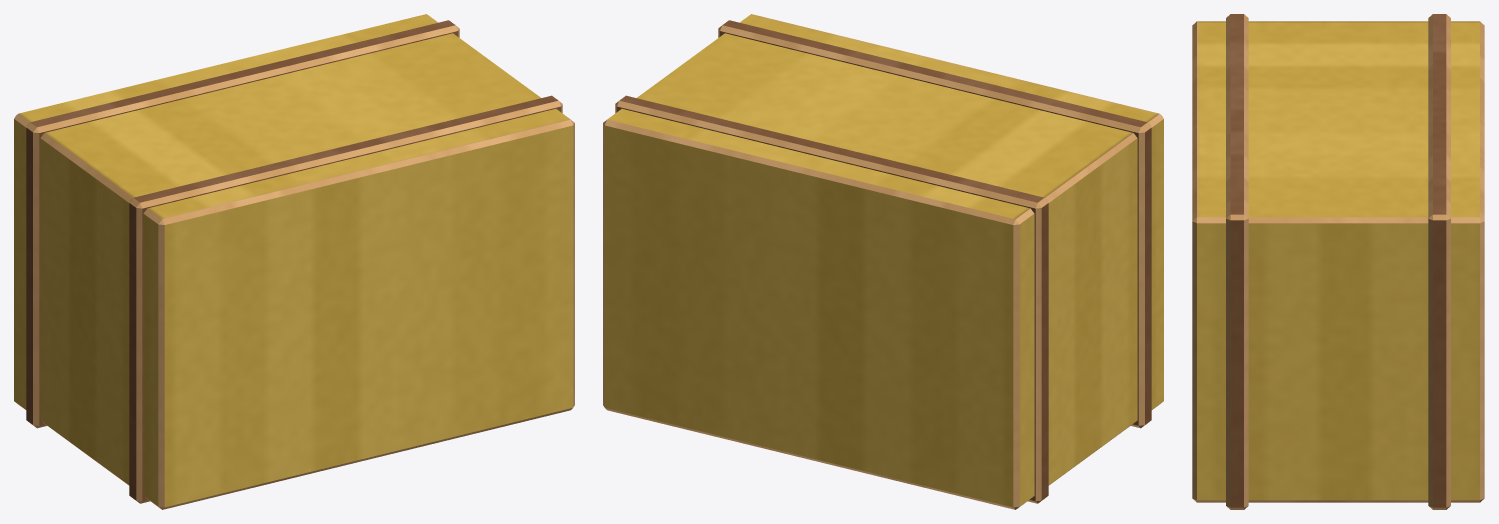
Rendered from sm_prop_hay_bale.glb.
The picture shows the model from 3 angles, left to right: view 1: azimuth 30°, elevation 25°; view 2: azimuth 150°, elevation 25°; view 3: azimuth 270°, elevation 25°; orthographic projection.
Visible parts, largest first — view 1: sm_prop_hay_bale; view 2: sm_prop_hay_bale; view 3: sm_prop_hay_bale.
Boxes of the visible parts, x1,y1,x2,y2 form: sm_prop_hay_bale: (14,14,574,509); sm_prop_hay_bale: (603,14,1163,509); sm_prop_hay_bale: (1192,14,1484,509).
Bounding box in the file's own units: 0.43 × 0.29 × 0.26.
1 material, 1 textured.
